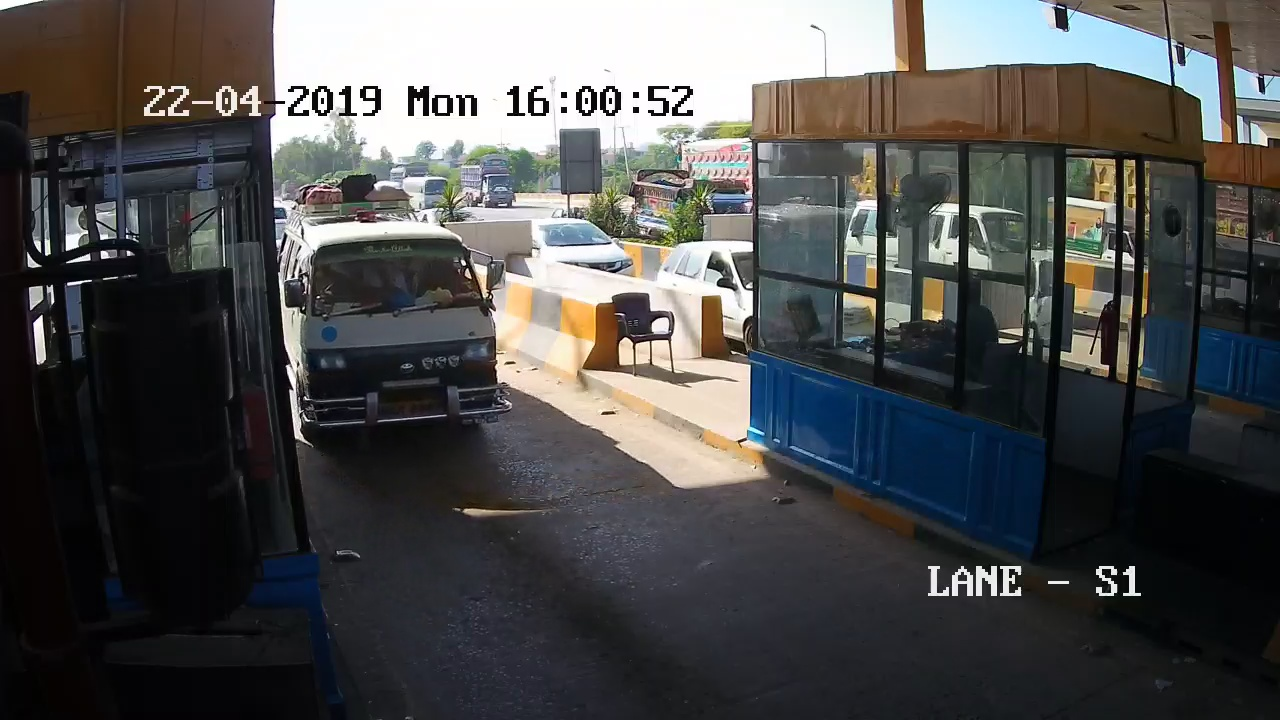car: (277, 198, 527, 461)
